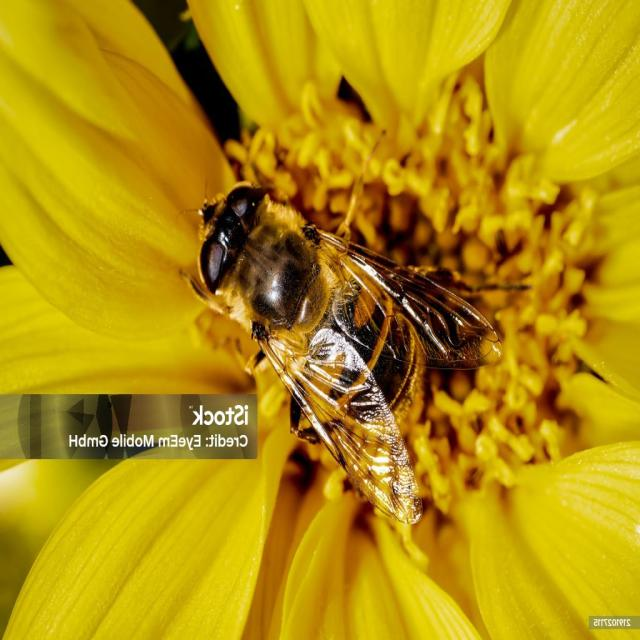hoverfly: (177, 130, 502, 525)
